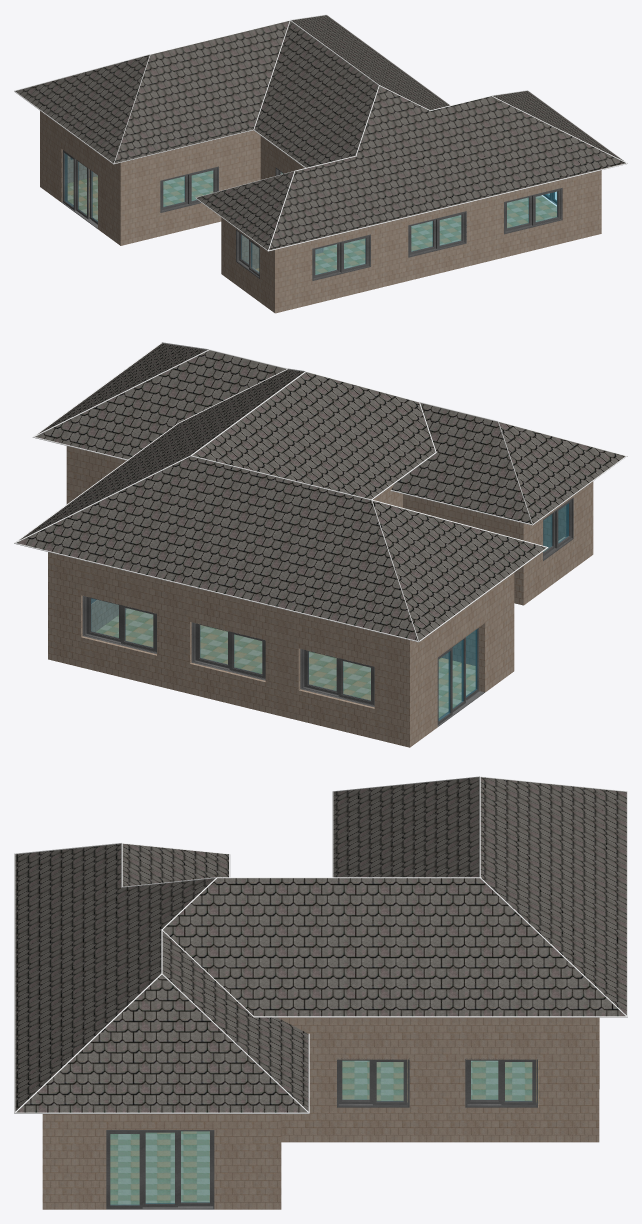
File: telhado31a.glb
3 views of the same model, one above another, from view 1: azimuth 30°, elevation 25°; view 2: azimuth 150°, elevation 25°; view 3: azimuth 270°, elevation 25° (orthographic). The views are drawn at different scales.
Parts seen in each view (by area): view 1: root; view 2: root; view 3: root.
Part boxes in pixels (bbox=[...]): root: bbox=[14, 14, 627, 313]; root: bbox=[14, 342, 627, 747]; root: bbox=[14, 776, 627, 1209].
Size of the model in its own units: 17.44 by 5.96 by 15.43.
Materials: 9 (6 with a texture image).
